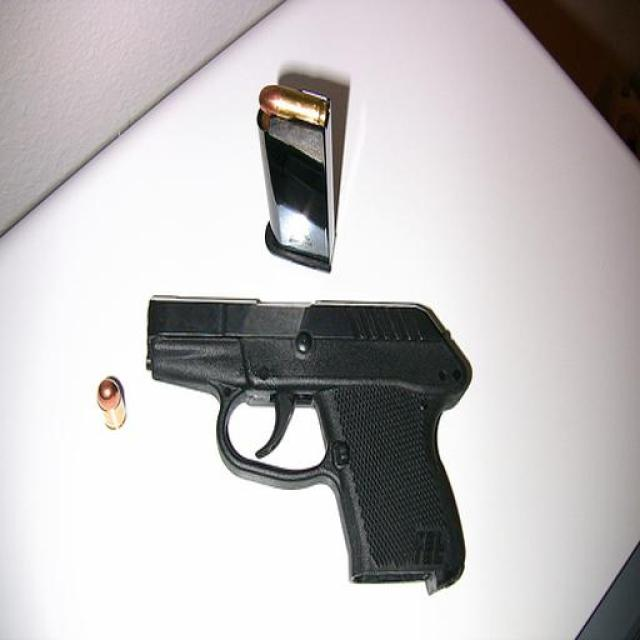pistol: (146, 293, 471, 594)
